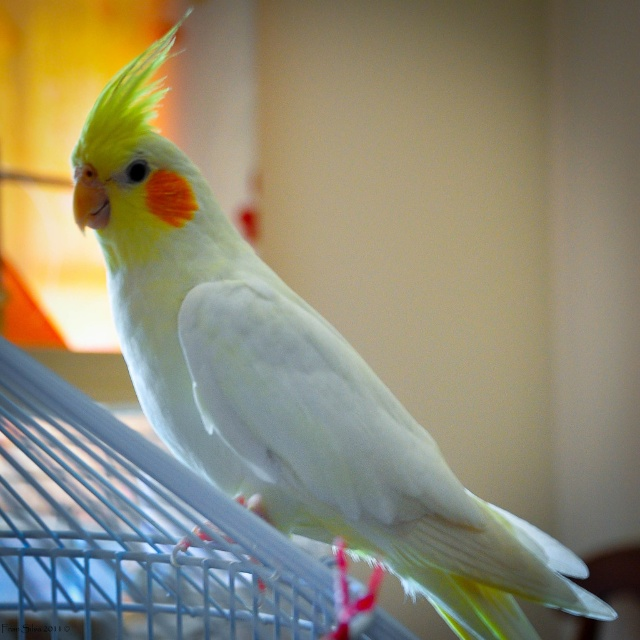Parrot: (70, 5, 617, 640)
